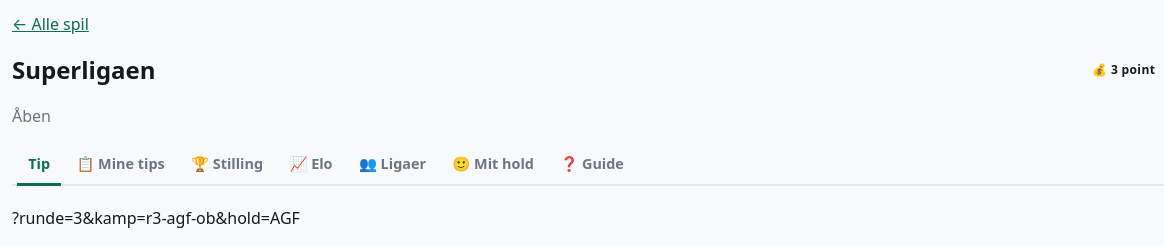
GamePage — parametre, der hører til ÉN fane, følger ikke med til den næste › faneskift tørrer ?kamp= og ?hold= af — som ?runde= IKKE tørres af
Click the tab "📋 Mine tips": click(121, 165) [65,144,176,186]
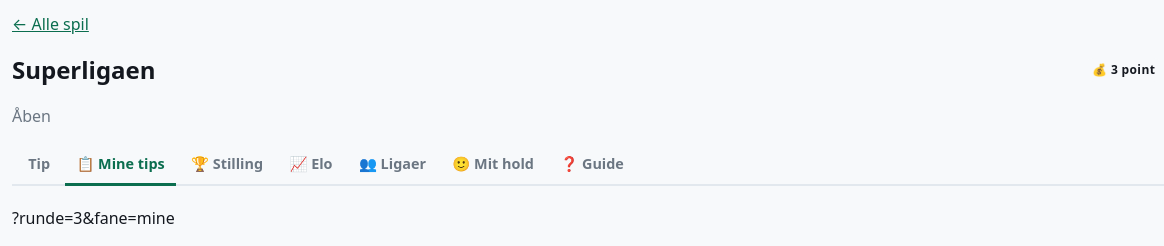
Check: the text with test id "url" shows "fane=", box [12,207,175,229]
Check: the text with test id "url" no longer shows "kamp="
Check: the text with test id "url" no longer shows "hold="
